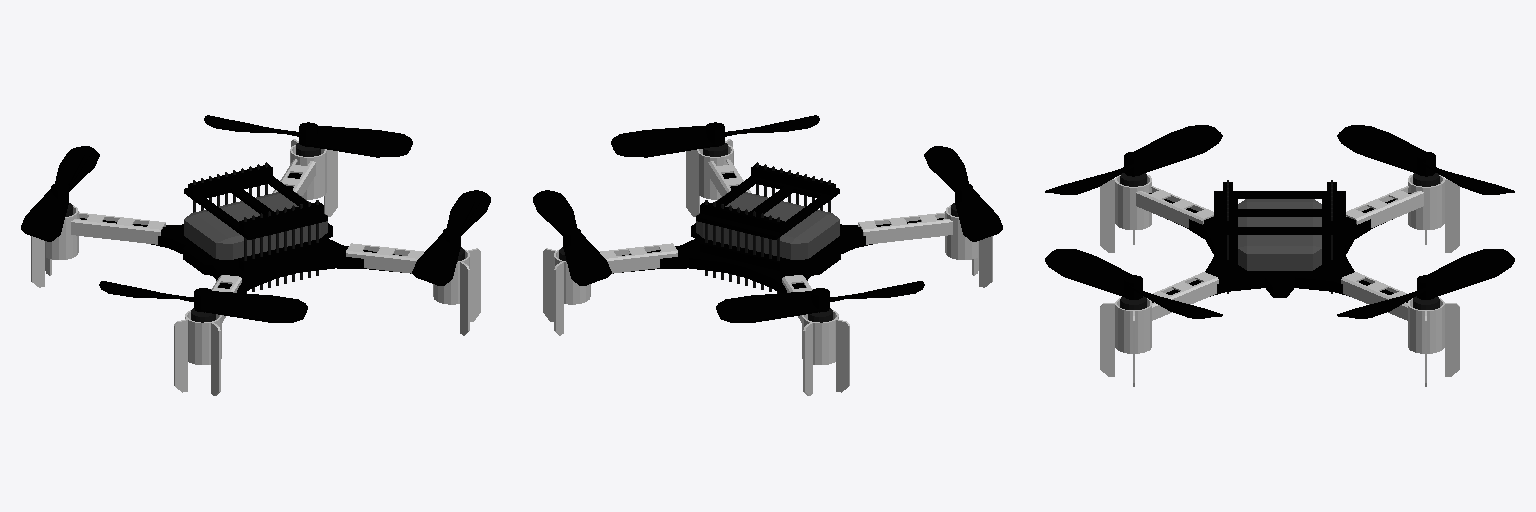
URDF robot description ($NAME):
<?xml version="1.0"?>
<robot name="$NAME">
  <link name="$NAME">
    <origin rpy="0 0 0" xyz="0.0 0 0" />
    <visual>
        <geometry>
          <mesh filename="package://crazyflie_description/urdf/cf2_assembly_with_props.dae" scale="1.0 1.0 1.0"/>
        </geometry>
    </visual>
  </link>
</robot>

--- Facts derived from the render (not from the file) ---
Views: 3 orthographic renders of the robot side by side, from view 1: azimuth 30°, elevation 25°; view 2: azimuth 150°, elevation 25°; view 3: azimuth 270°, elevation 25°.
Model $NAME with 1 links and 0 joints (none), rooted at $NAME, posed all joints at 0.
Visible links, largest first — view 1: $NAME; view 2: $NAME; view 3: $NAME.
Link boxes in pixels (x1=…): $NAME: x1=21, y1=115, x2=490, y2=395; $NAME: x1=533, y1=115, x2=1002, y2=395; $NAME: x1=1045, y1=125, x2=1514, y2=386.
Bounding box of the posed robot: 0.0963 × 0.0998 × 0.0272 m (x, y, z).
1 mesh visuals loaded from 1 distinct referenced files (1 Collada DAE).
